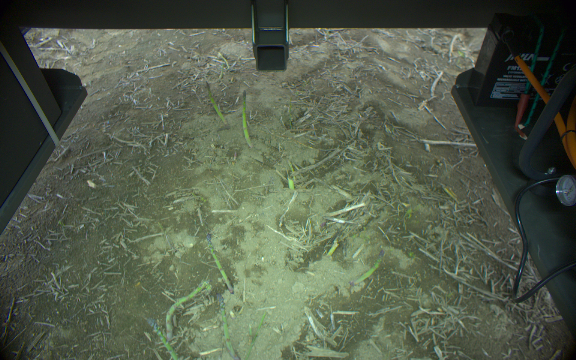aspa: (164, 279, 215, 337), (215, 292, 243, 360), (205, 232, 235, 294), (145, 318, 182, 360), (351, 248, 385, 286), (203, 80, 230, 127), (240, 90, 256, 150)
